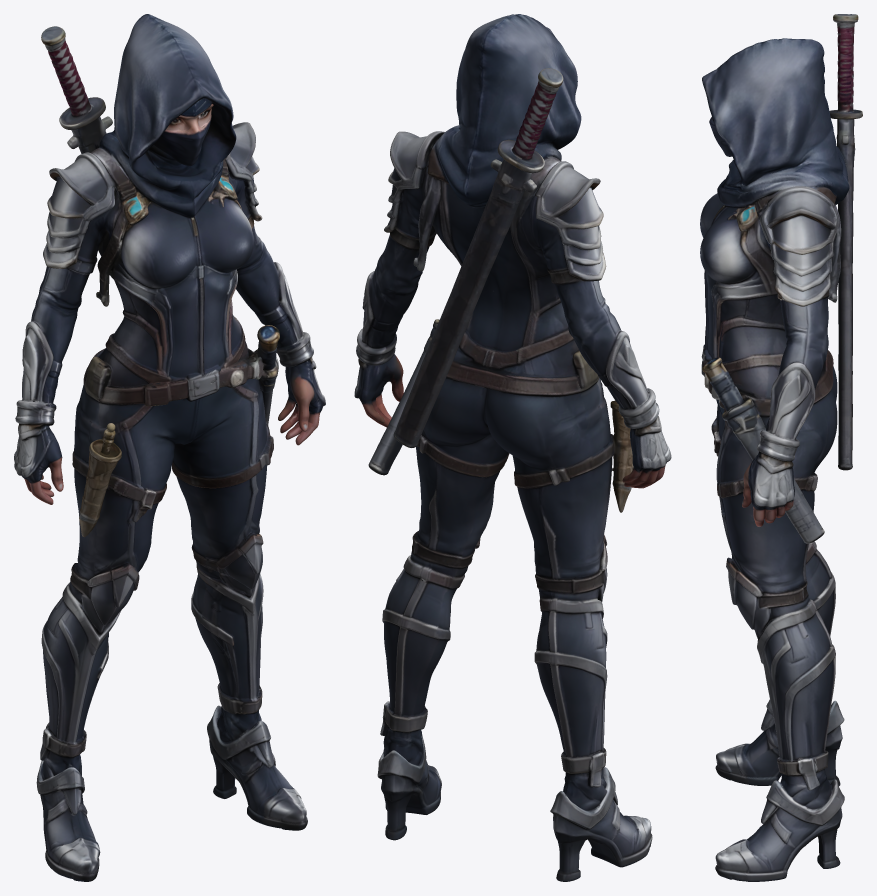
File: player-character.glb
3 views of the same model, side by side, from view 1: azimuth 30°, elevation 25°; view 2: azimuth 150°, elevation 25°; view 3: azimuth 270°, elevation 25° (orthographic). The views are drawn at different scales.
Parts seen in each view (by area): view 1: tripo_node_484f30e8-96a4-4017-baaa-b142d370eb3f; view 2: tripo_node_484f30e8-96a4-4017-baaa-b142d370eb3f; view 3: tripo_node_484f30e8-96a4-4017-baaa-b142d370eb3f.
Part boxes in pixels (<box>): tripo_node_484f30e8-96a4-4017-baaa-b142d370eb3f: <box>14,14,325,881</box>; tripo_node_484f30e8-96a4-4017-baaa-b142d370eb3f: <box>354,14,671,881</box>; tripo_node_484f30e8-96a4-4017-baaa-b142d370eb3f: <box>700,14,862,881</box>.
Bounding box in the file's own units: 0.3903 × 1 × 0.1876.
Materials: 1 (1 with a texture image).
